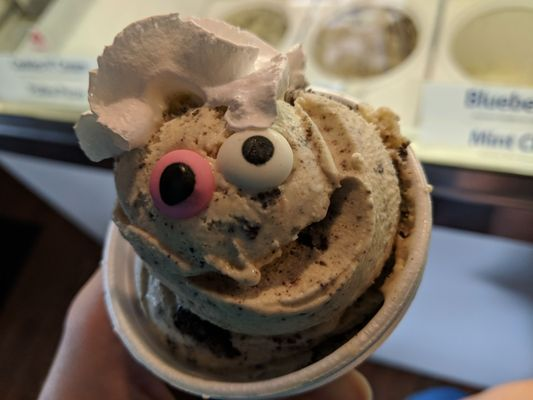pizza: (302, 0, 441, 129)
